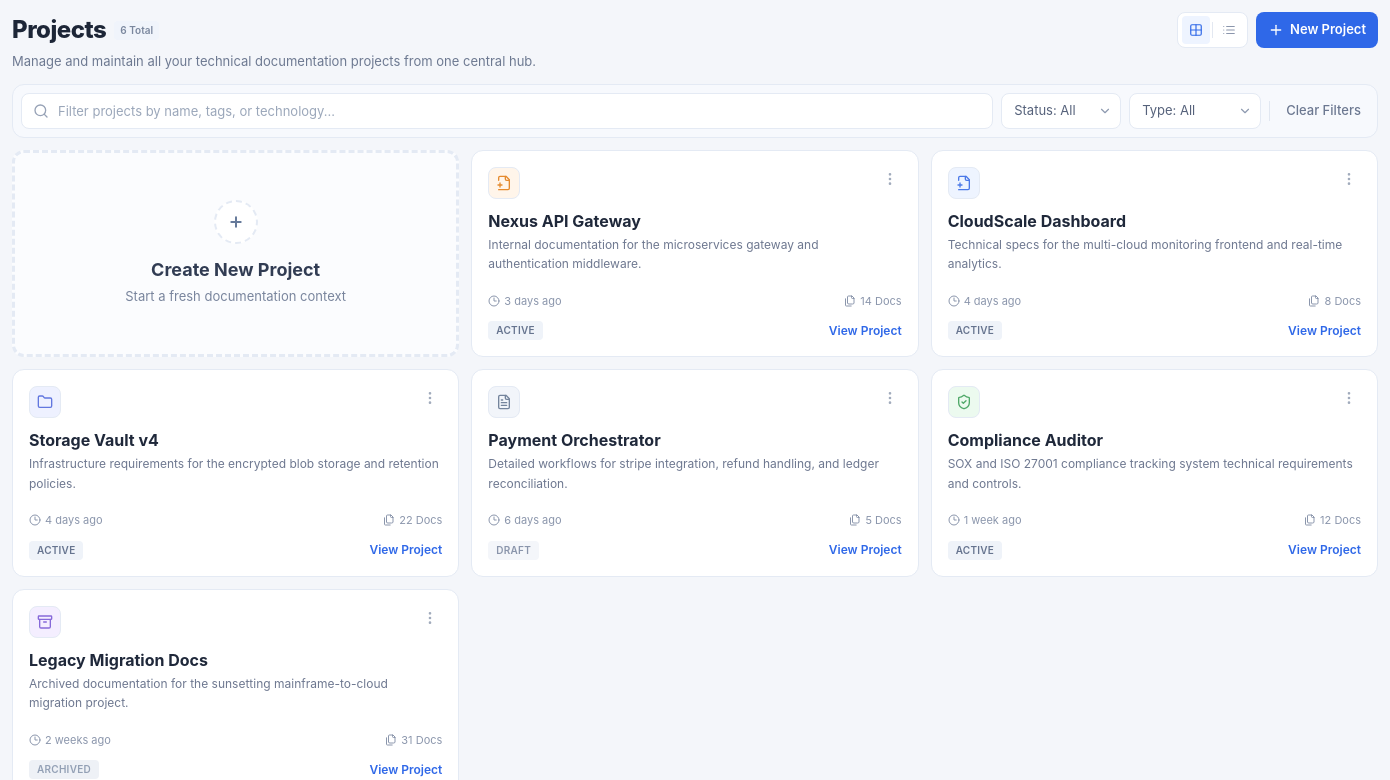
Test: ProjectsPage › filters projects and supports resetting empty state
expect the heading "Nexus API Gateway" is shown: met, box [488, 210, 641, 230]
Select "Status: Archived" in the dropdown labelled "Status: All": (1061, 110) [1001, 92, 1121, 128]
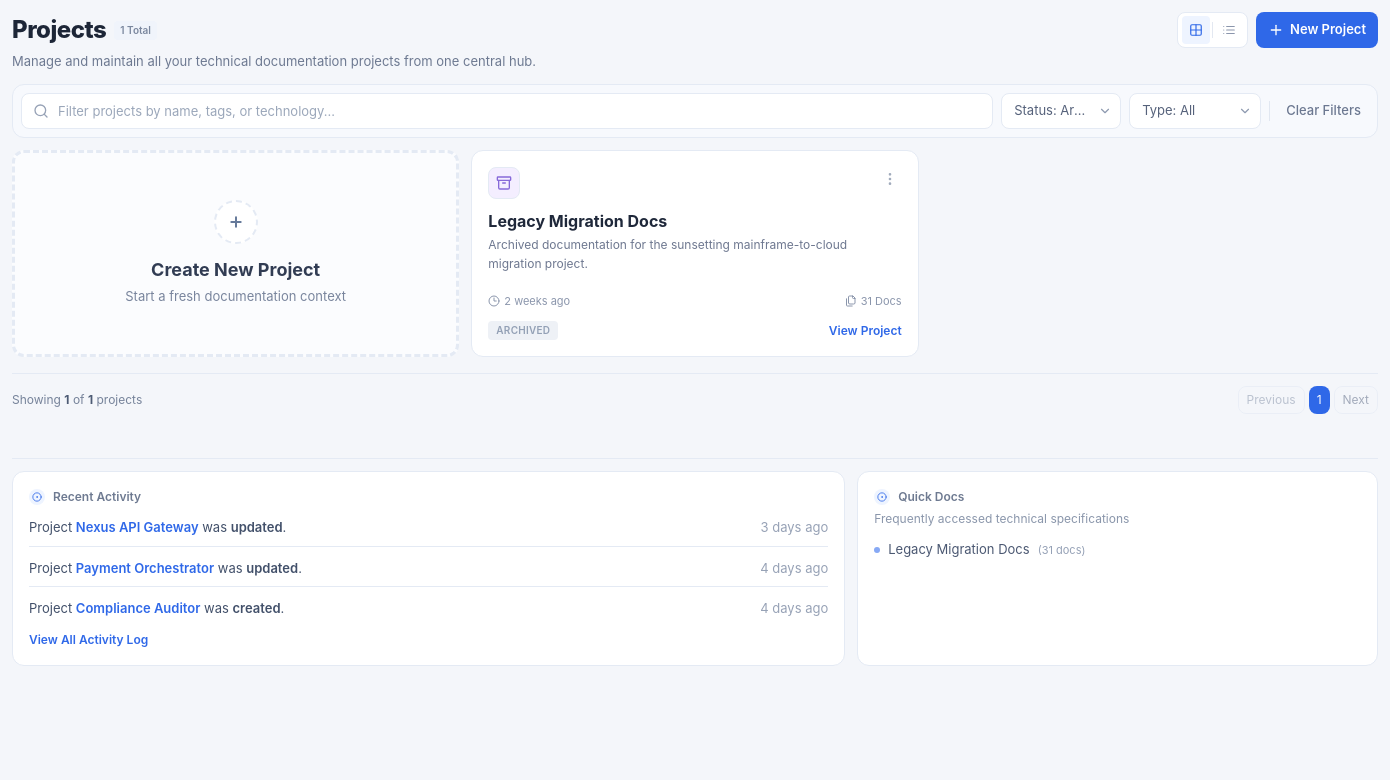
expect the heading "Legacy Migration Docs" is shown: met, box [488, 210, 667, 230]
In the search field with placeholder "Filter projects by name, tags, or technology...": (507, 110) [21, 92, 993, 128], type "does-not-exist"
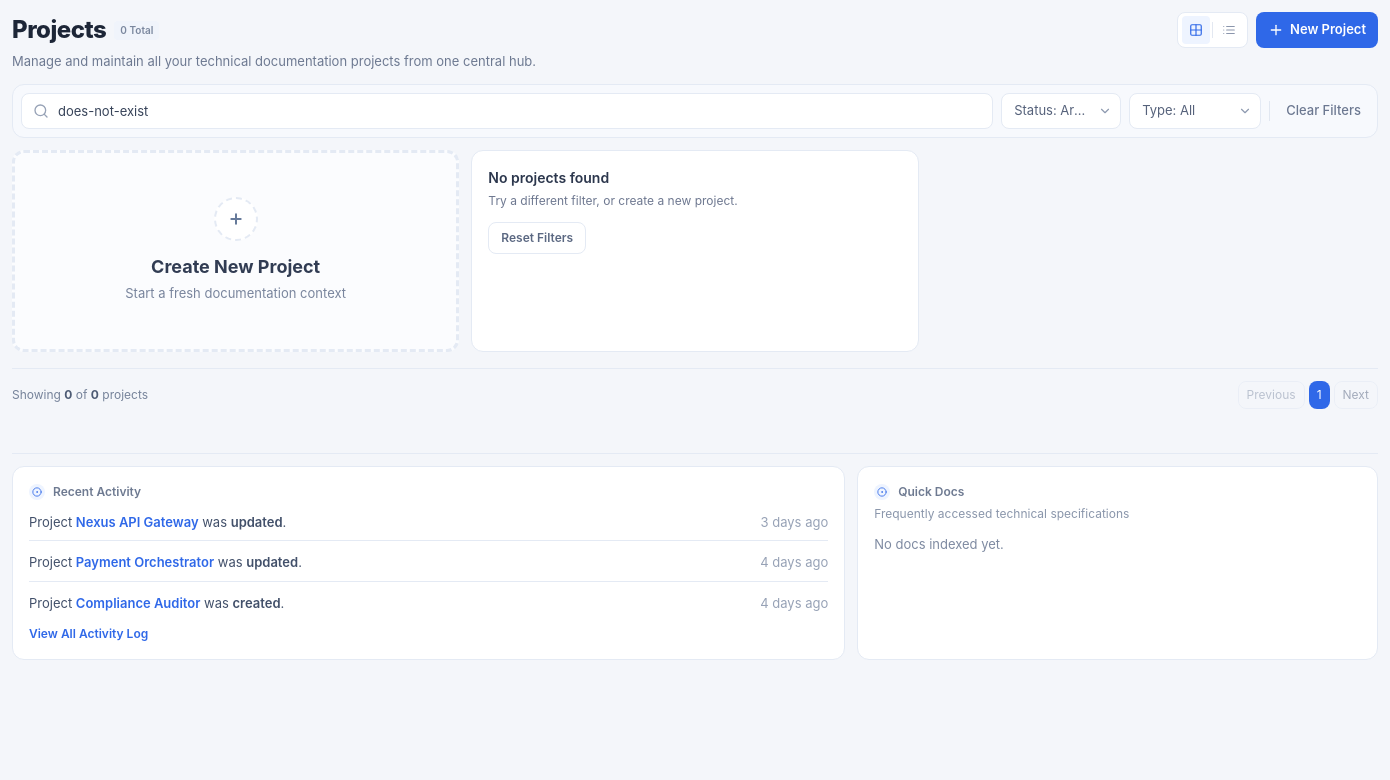
expect the text "No projects found" is shown: met, box [488, 168, 609, 186]
Click the button "Reset Filters": (537, 238) [488, 222, 586, 254]
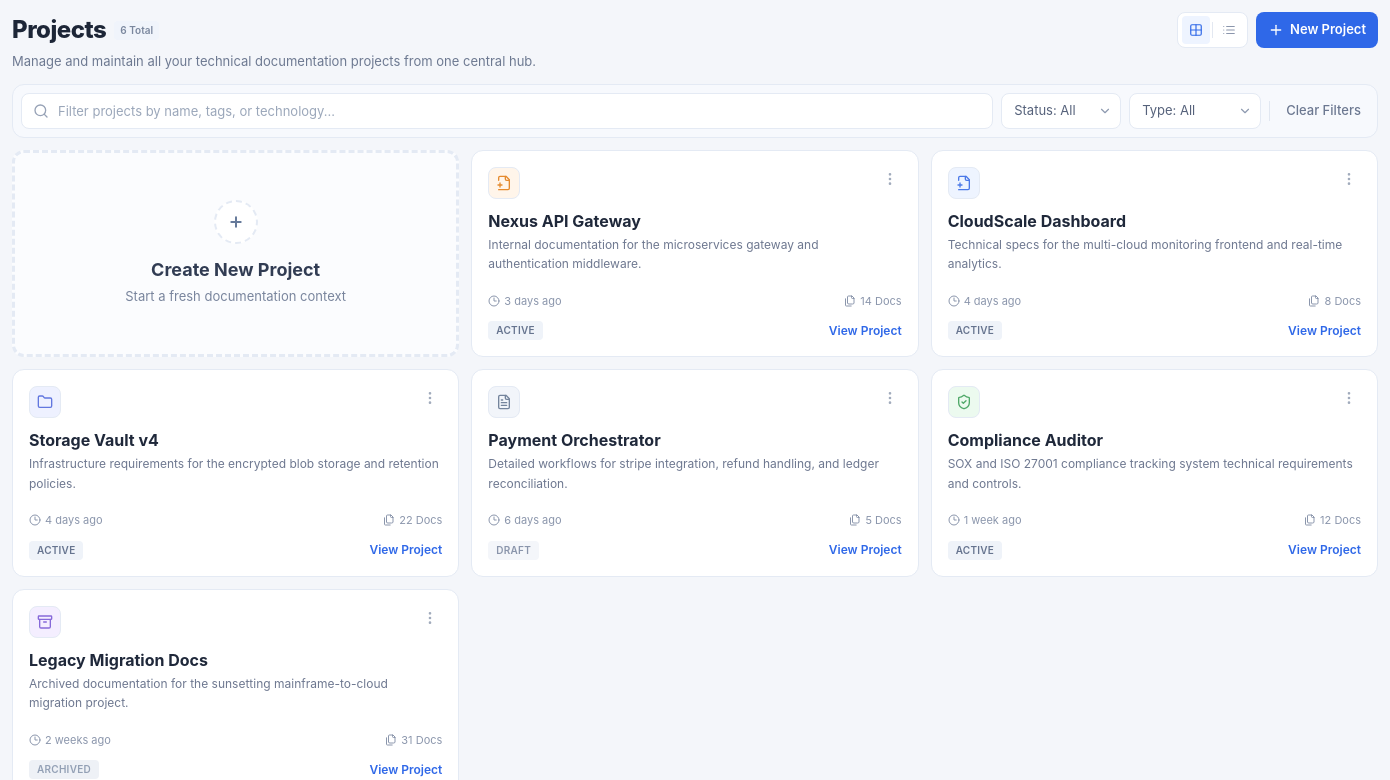
expect the heading "Nexus API Gateway" is shown: met, box [488, 210, 641, 230]
